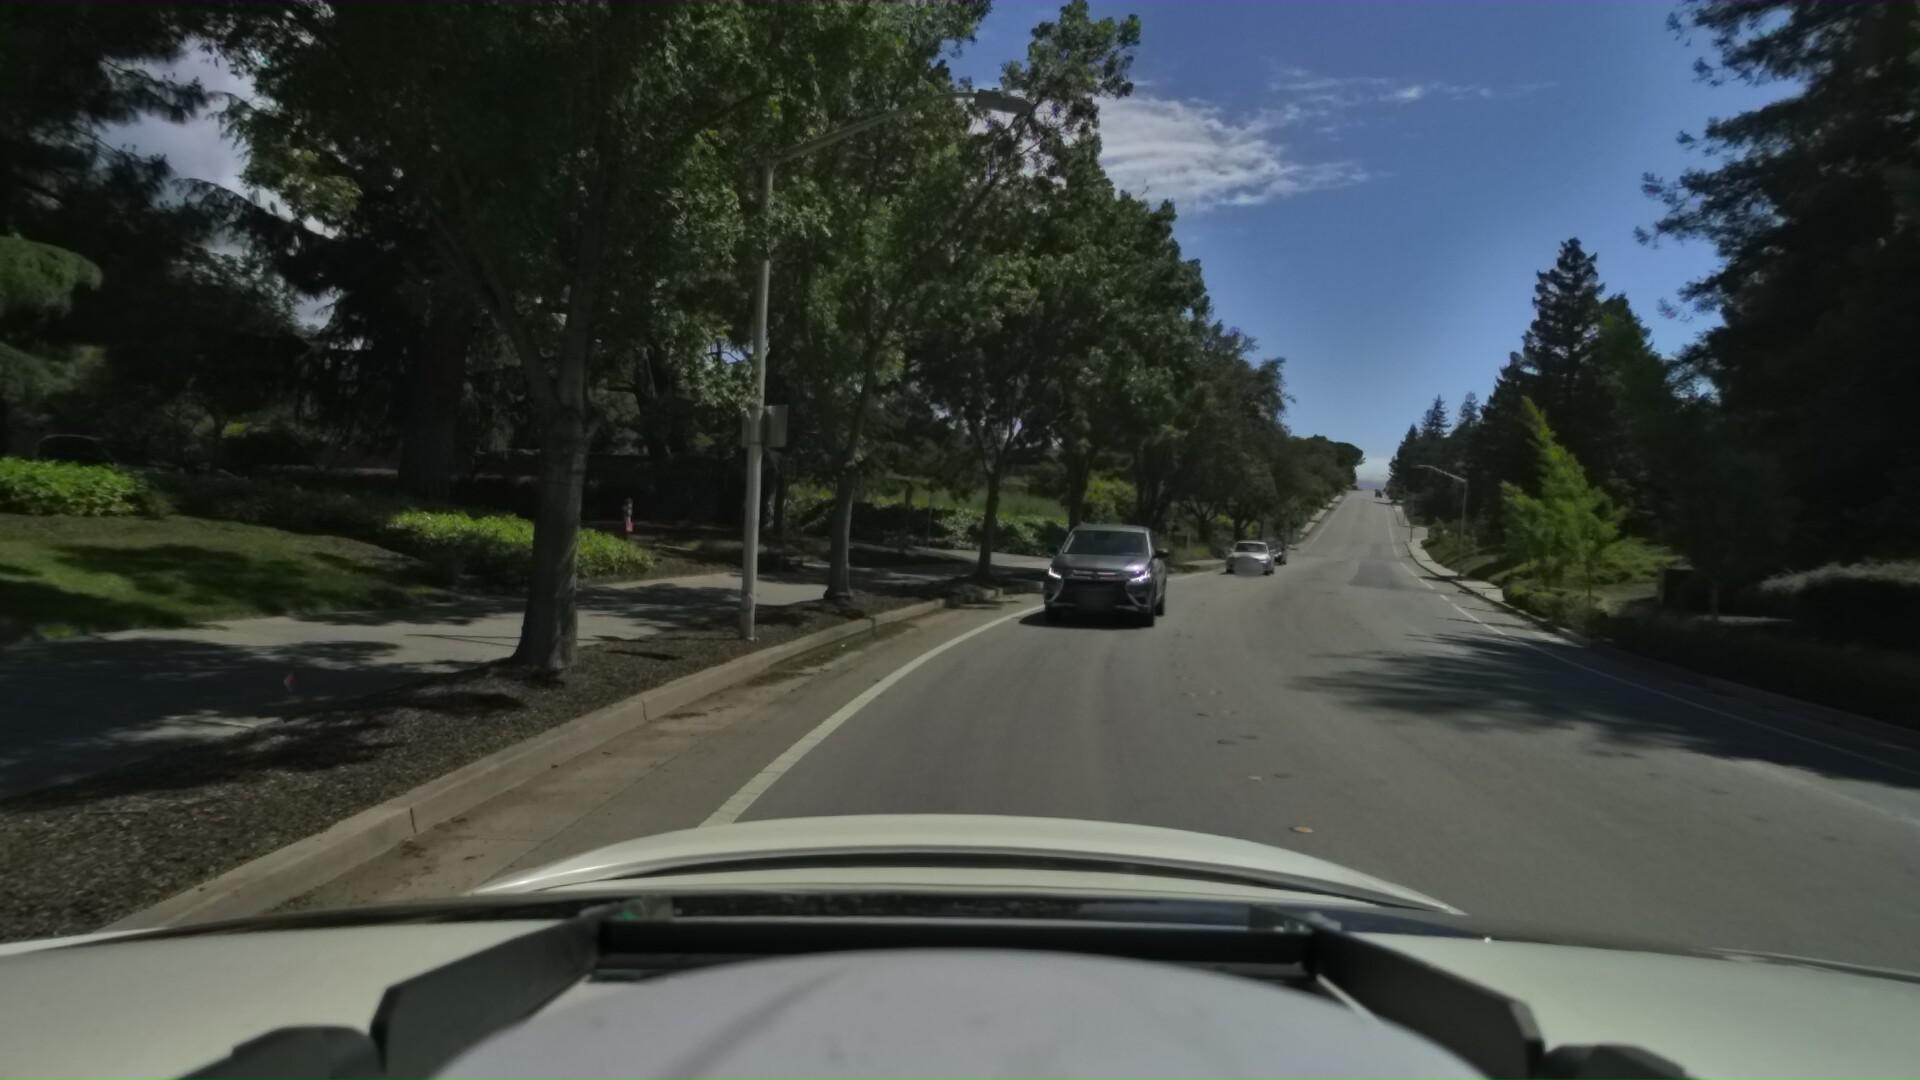car: (1033, 504, 1189, 621), (1224, 526, 1283, 572), (1250, 531, 1294, 560)
